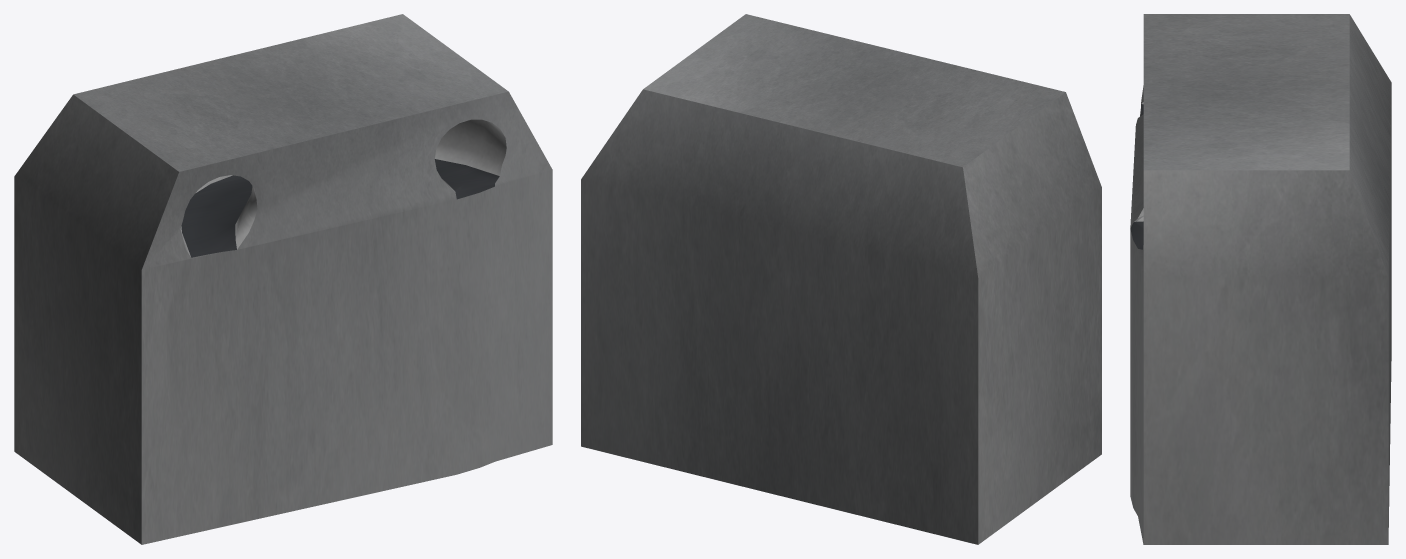
Rendered from tunnel5.fbx.
The picture shows the model from 3 angles, left to right: view 1: azimuth 30°, elevation 25°; view 2: azimuth 150°, elevation 25°; view 3: azimuth 270°, elevation 25°; orthographic projection. The views are drawn at different scales.
Visible parts, largest first — view 1: pCube2; view 2: pCube2; view 3: pCube2.
Part boxes in pixels (left/top/right/bottom): pCube2: left=14, top=14, right=552, bottom=544; pCube2: left=581, top=14, right=1101, bottom=544; pCube2: left=1130, top=14, right=1391, bottom=544.
Size of the model in its own units: 110 by 93.3 by 62.48.
Materials: 2 (2 with a texture image).
